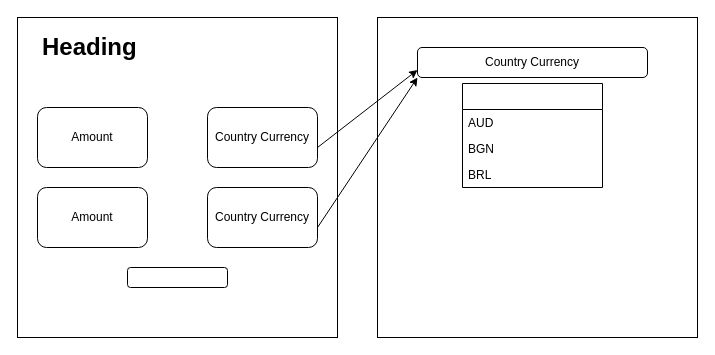
Image size: 715x355. Some labels were removed from this diagram. Here are the shapes that lost their labels. From the top down, the box of each, then its label:
(462, 82, 602, 188): List
(126, 266, 228, 288): Convert
